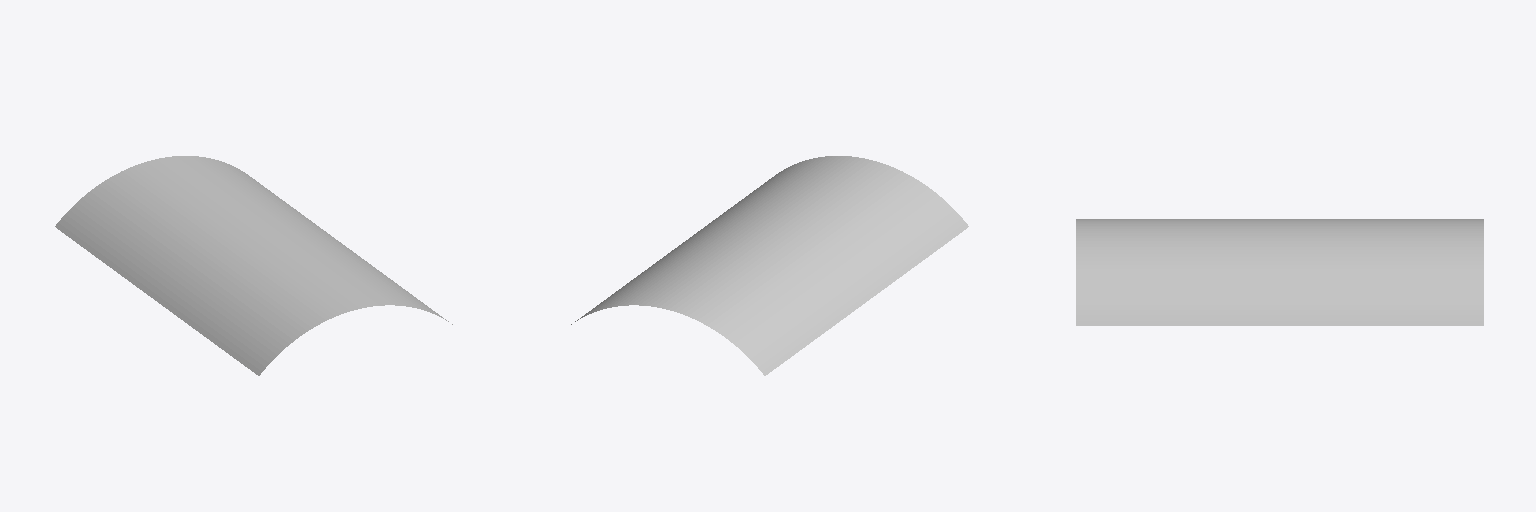
File: CylinderPlane3.obj
The picture shows the model from 3 angles: view 1: azimuth 30°, elevation 25°; view 2: azimuth 150°, elevation 25°; view 3: azimuth 270°, elevation 25°; orthographic projection.
Visible parts, largest first — view 1: mesh0.002; view 2: mesh0.002; view 3: mesh0.002.
Part boxes in pixels (bbox=[...]): mesh0.002: bbox=[55, 156, 452, 375]; mesh0.002: bbox=[571, 156, 968, 375]; mesh0.002: bbox=[1076, 219, 1483, 325].
Size of the model in its own units: 0.28 by 0.058 by 0.5.